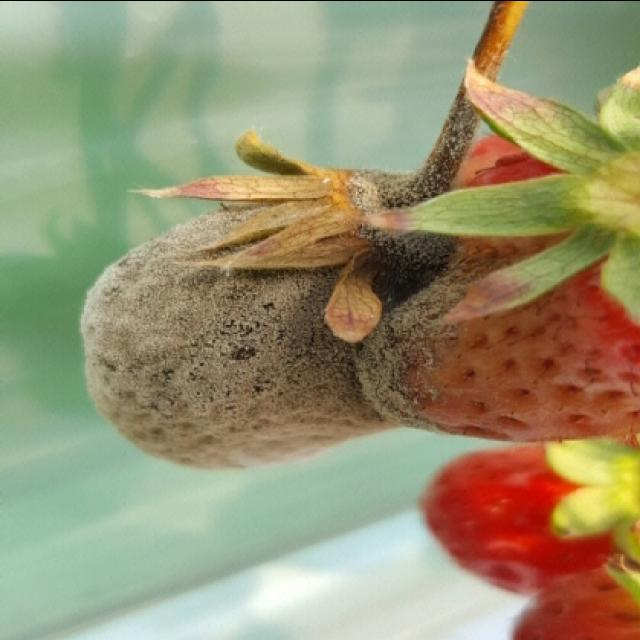Gray Mold: (79, 87, 482, 468), (349, 232, 638, 444)
